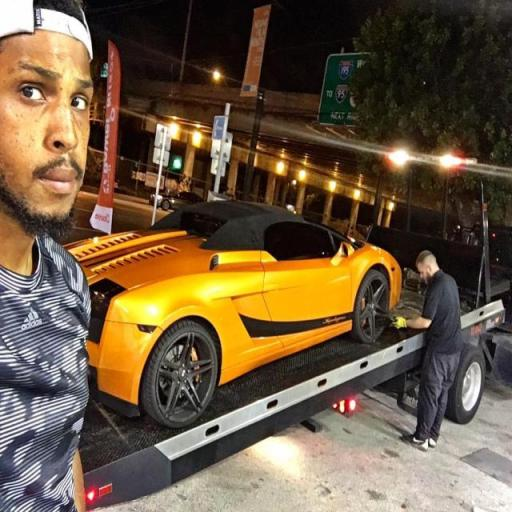Adidas: (18, 306, 44, 332)
